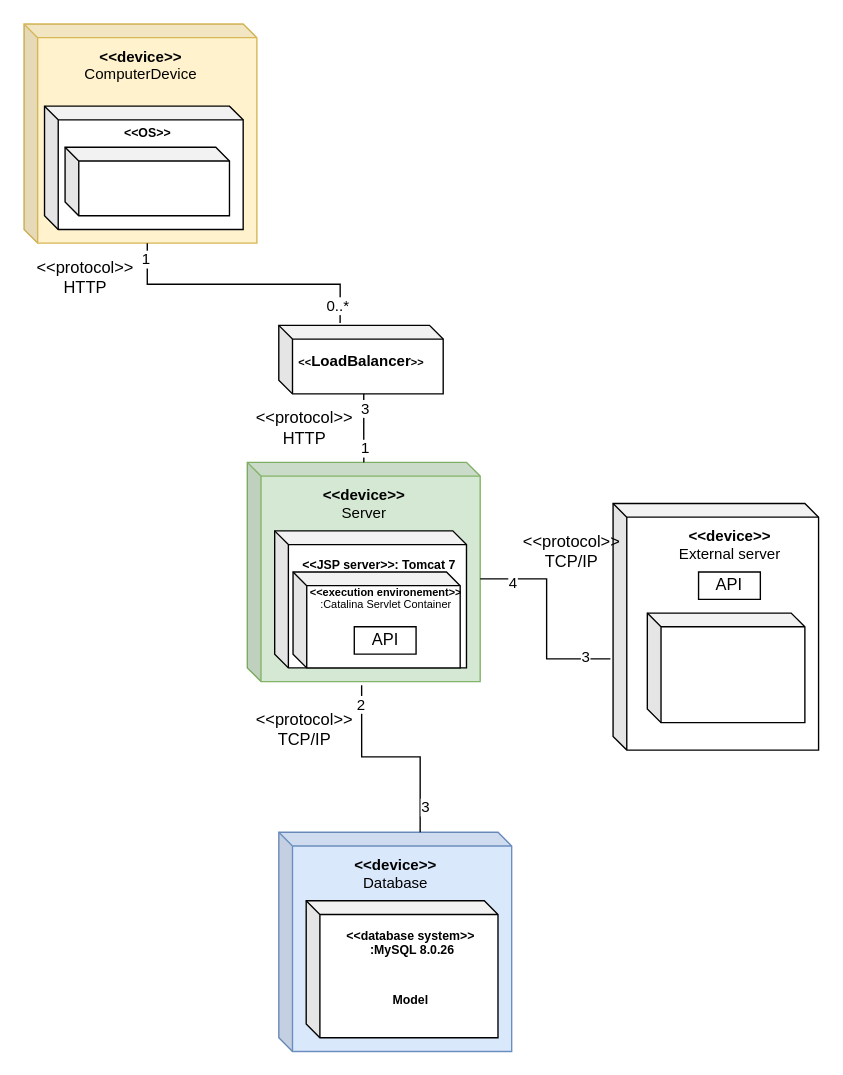
This 843x1075 diagram has some shape labels left out. Here are the shapes that lost their labels. From the top down, the centre of each, then its label:
[146,181]: <<web browser>>
[725,667]: <<external database system>>
